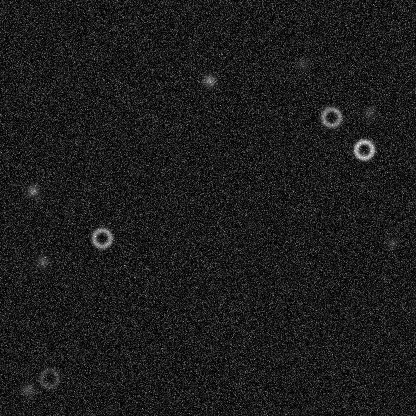Ring: (37, 366, 61, 390), (89, 225, 113, 249), (319, 105, 343, 129), (351, 137, 375, 161)
Spot: (24, 182, 40, 198), (19, 381, 35, 397), (33, 252, 49, 268), (201, 72, 217, 88), (294, 56, 310, 72), (383, 235, 399, 251), (361, 104, 377, 120)
